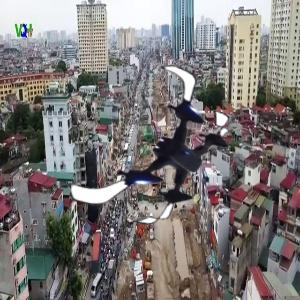drone: (81, 63, 250, 232)
